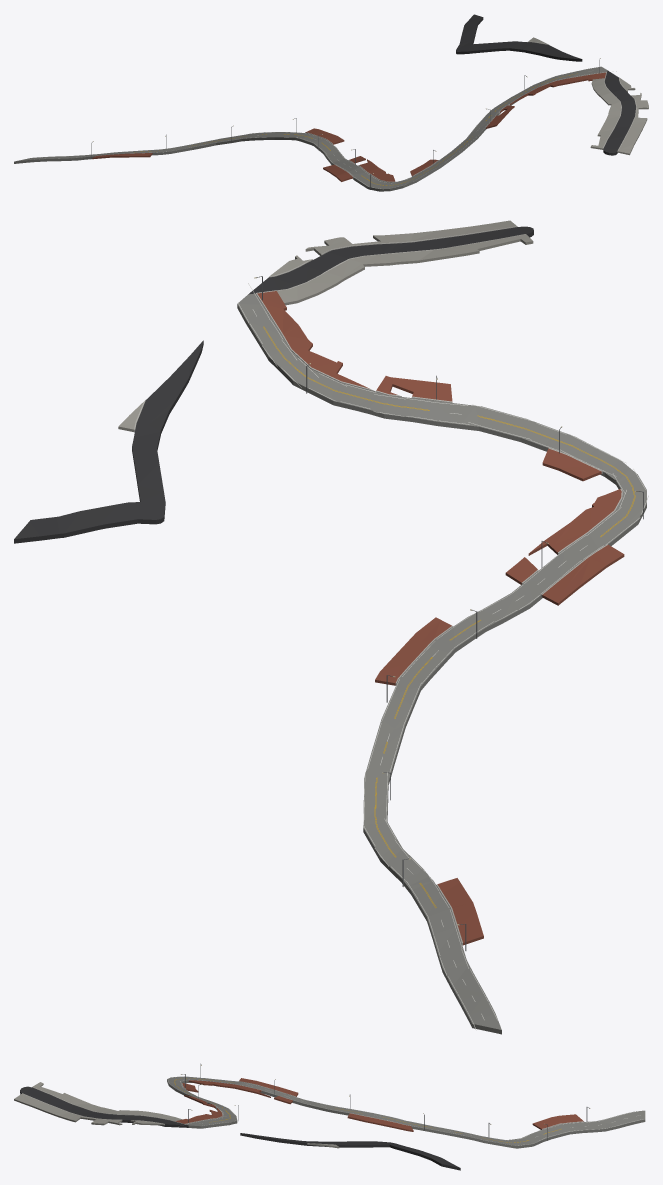
File: 17-109448-59456.3f0dfe0d.glb
3 views of the same model, one above another, from view 1: azimuth 30°, elevation 25°; view 2: azimuth 150°, elevation 25°; view 3: azimuth 270°, elevation 25° (orthographic). The views are drawn at different scales.
Size of the model in its own units: 189 by 87.04 by 272.
